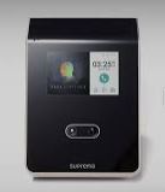Suprema: (24, 15, 146, 182)
